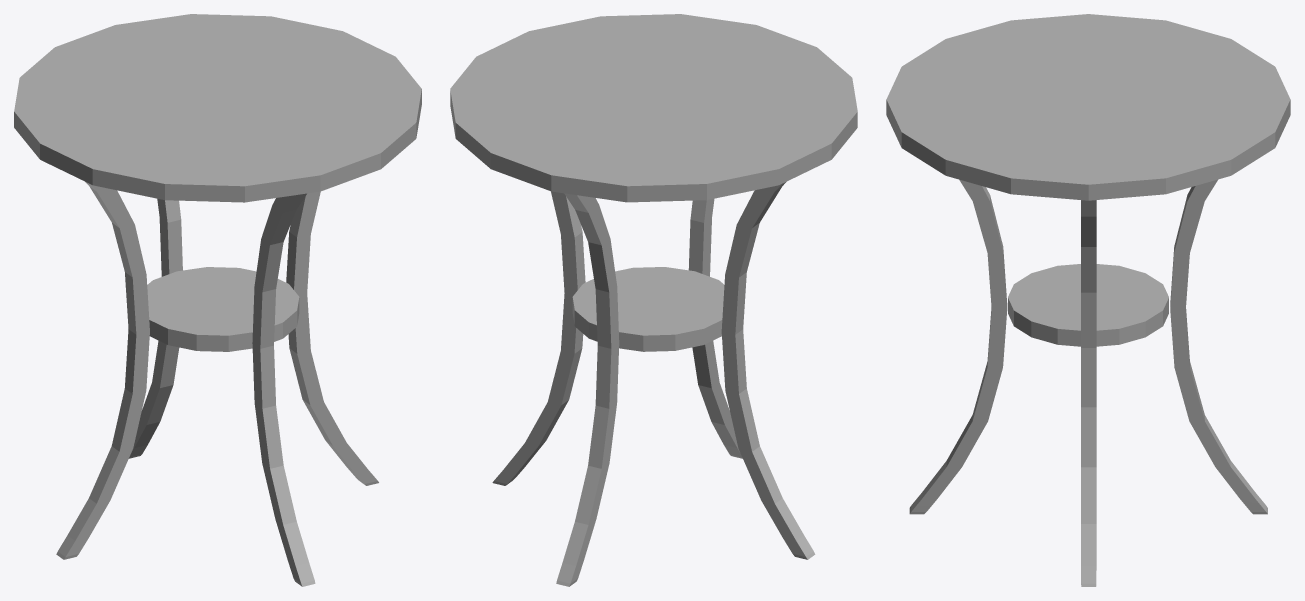
File: Round Table.fbx
3 views of the same model, side by side, from view 1: azimuth 30°, elevation 25°; view 2: azimuth 150°, elevation 25°; view 3: azimuth 270°, elevation 25° (orthographic).
Visible parts, largest first — view 1: Round Table; view 2: Round Table; view 3: Round Table.
Part boxes in pixels (x1,y1,x2,y2): Round Table: (14, 14, 421, 586); Round Table: (450, 14, 857, 586); Round Table: (886, 14, 1290, 586).
Size of the model in its own units: 116 by 116 by 131.
